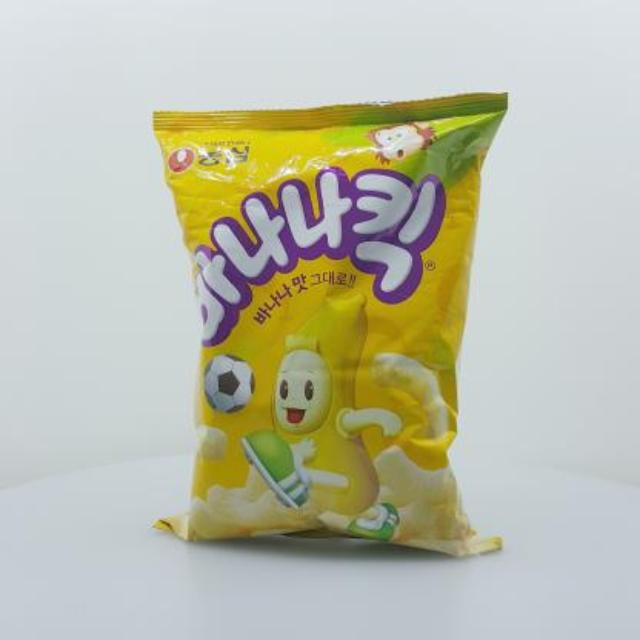snack_bag: (138, 79, 542, 579)
